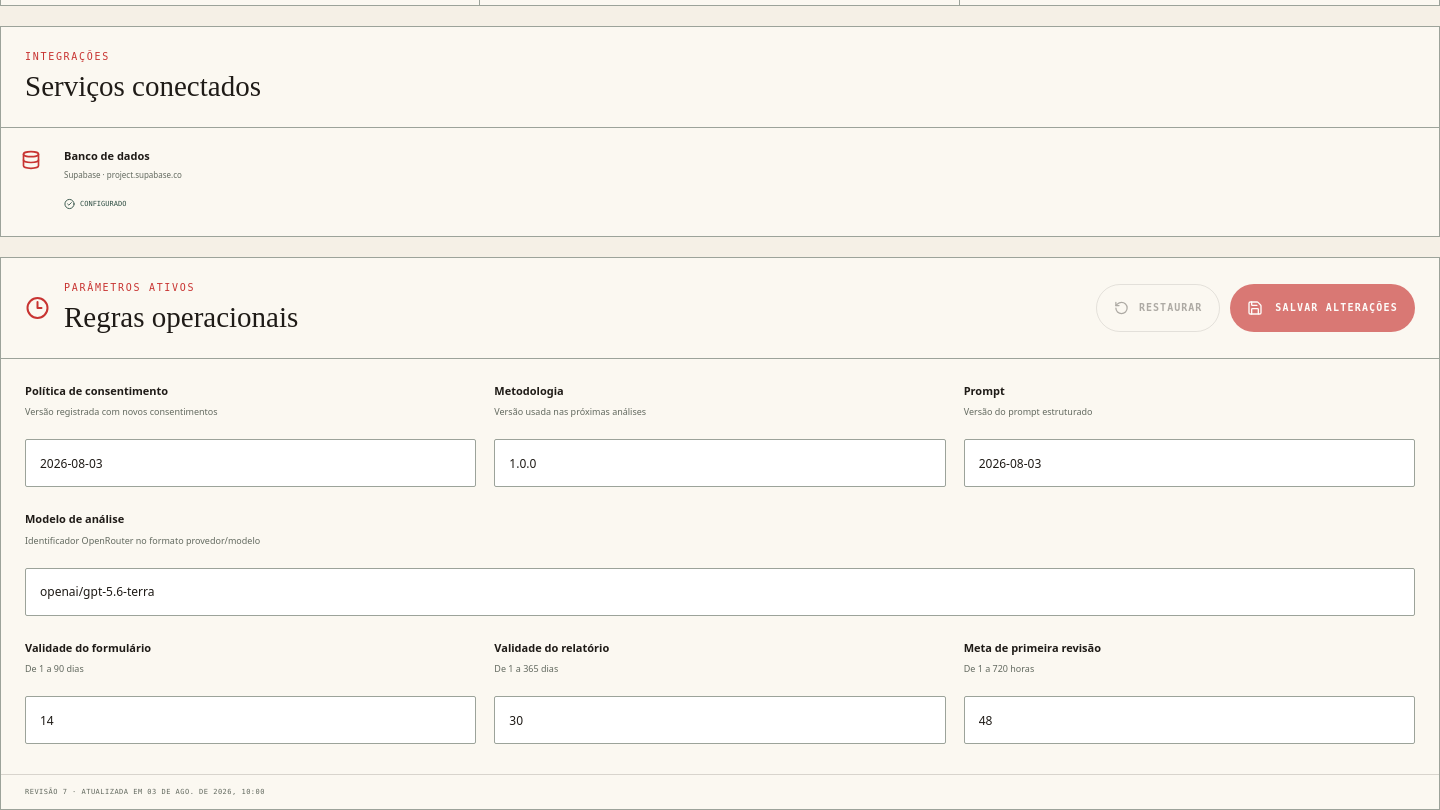
Test case: módulos reais do menu › valida e salva parâmetros com autenticação e revisão otimista
(page scrolled)
Replace the text in the number field labelled "Validade do relatório De 1 a 365 dias" with "45" at (720, 720), box left=494, top=696, right=946, bottom=744
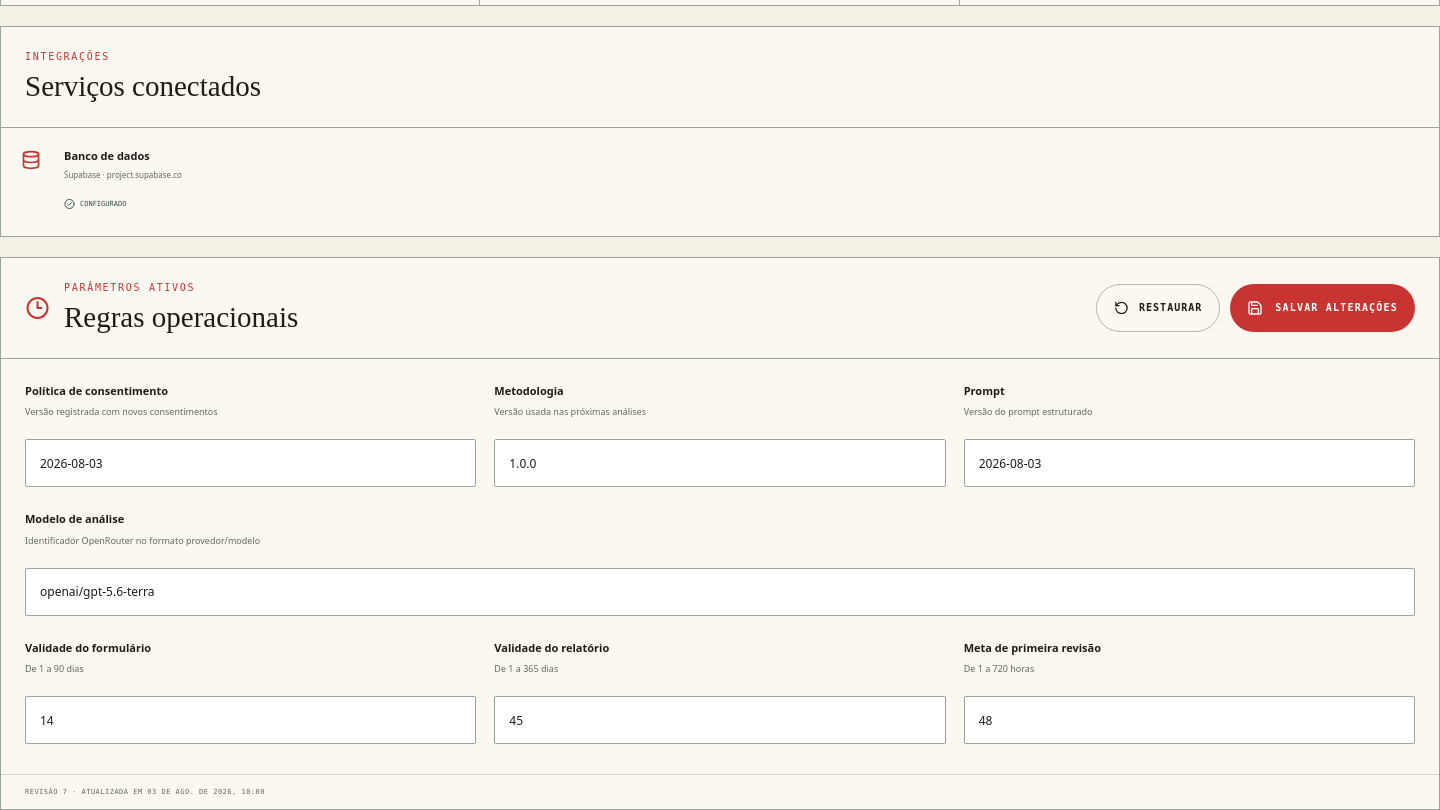
Click the button "Salvar alterações" at (1323, 308), box left=1230, top=284, right=1415, bottom=332
(page scrolled)
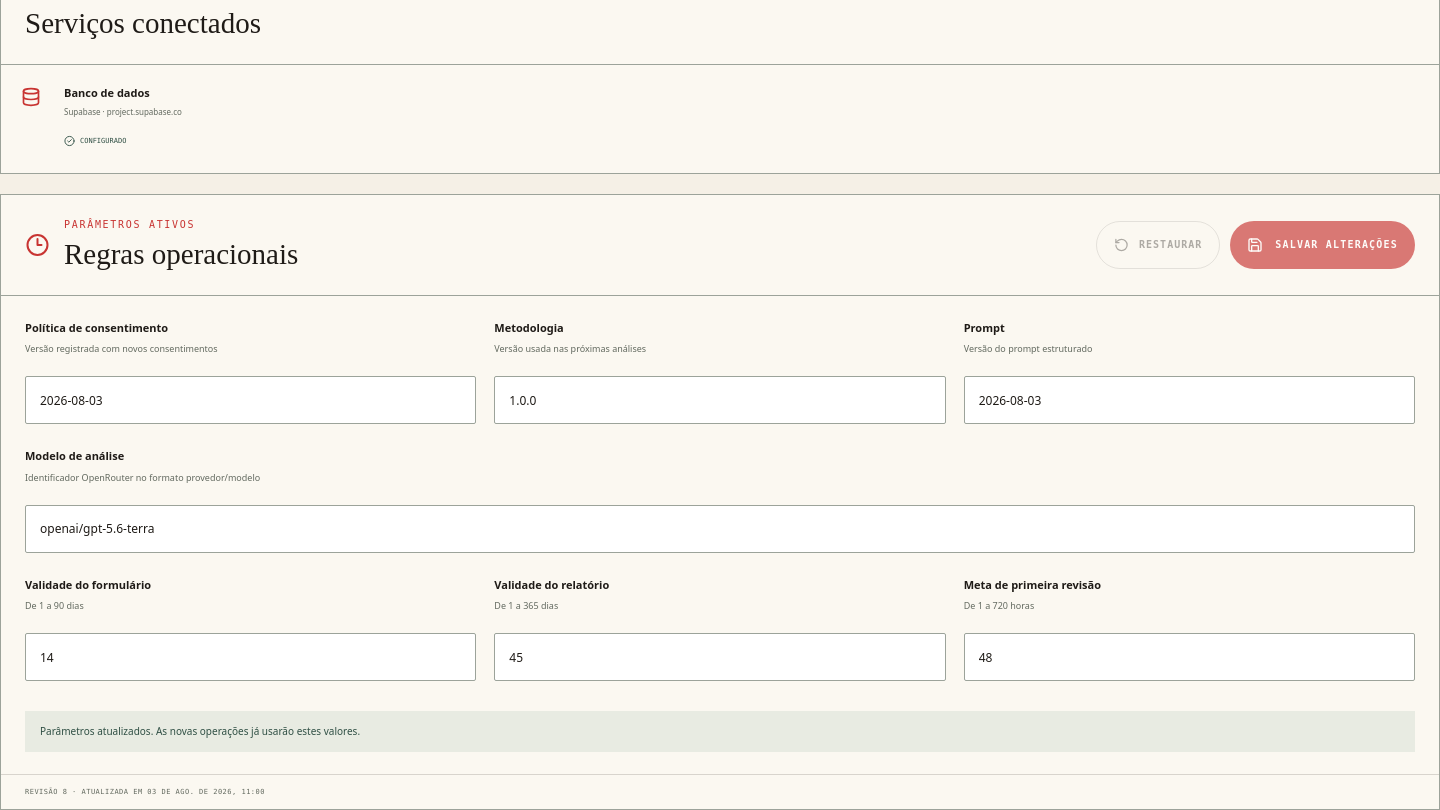
Check: the text "Parâmetros atualizados. As novas operações já usarão estes valores." is shown, box left=25, top=712, right=1415, bottom=752
Check: the text "Revisão 8 · atualizada em 03 de ago. de 2026, 11:00" is shown, box left=1, top=774, right=1439, bottom=809
